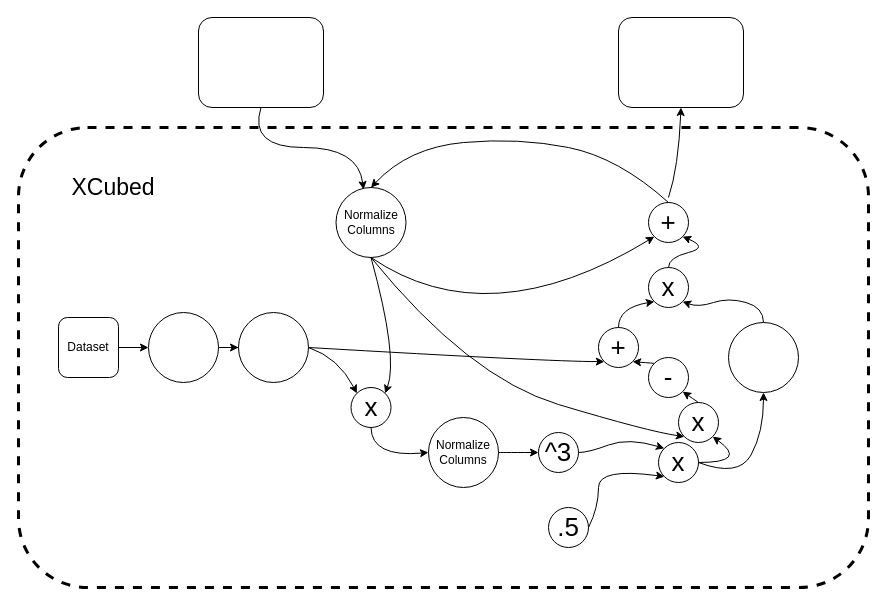
This 887x606 diagram has some shape labels left out. The centre of each missing label's shape, as x and y in pixels:
"Get Patches" goes at pixel 183 347.
"Random Initialize Dictionary" goes at pixel 261 62.
"Transpose" goes at pixel 763 357.
"Weight Output" goes at pixel 681 62.
"ZCA Whiten" goes at pixel 273 347.
